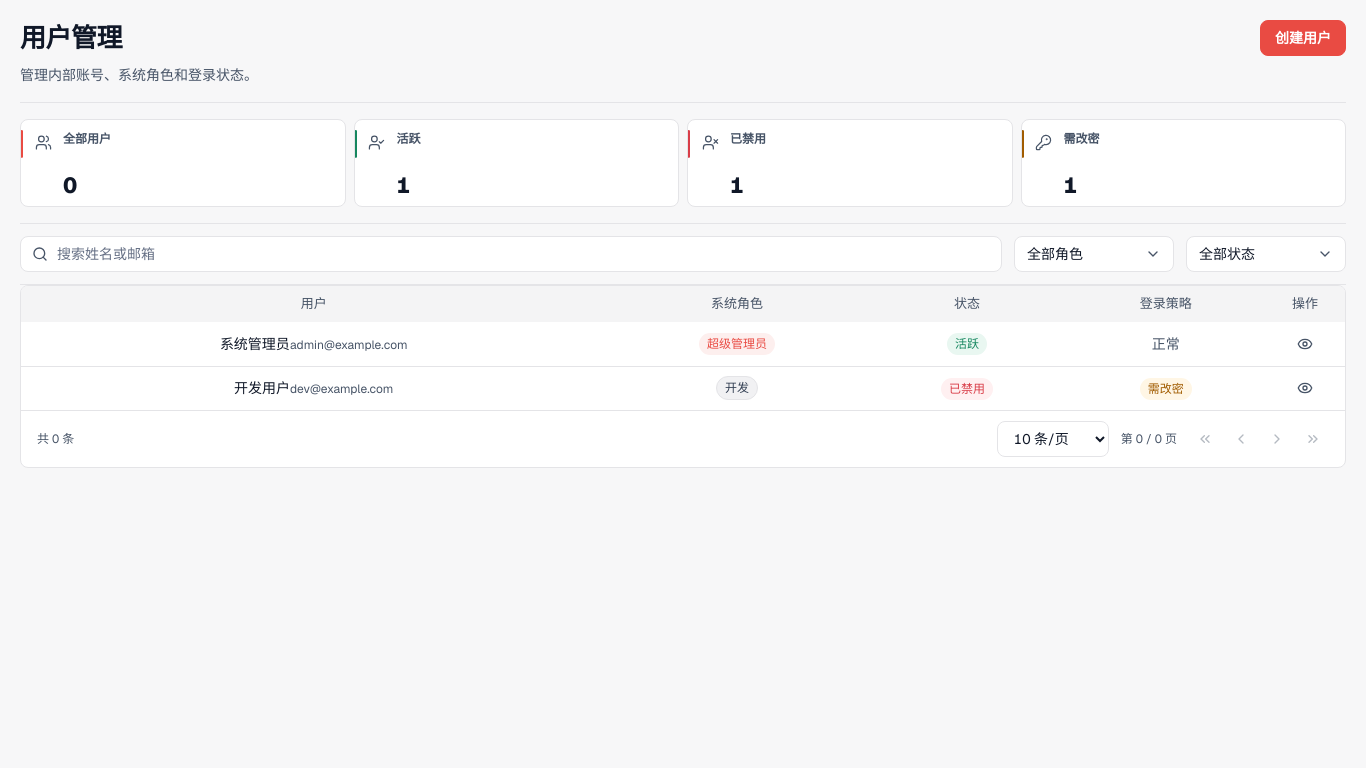
Test: UserManagement › renders dense rows and opens a protected detail drawer
Check: the text "dev@example.com" is shown, box [290,380,393,398]
Check: the text "已禁用" in the row of "全部用户" is shown, box [730,131,766,147]
Step 1. Click the button named "查看系统管理员" → click(1305, 344), box [1289,328,1321,360]
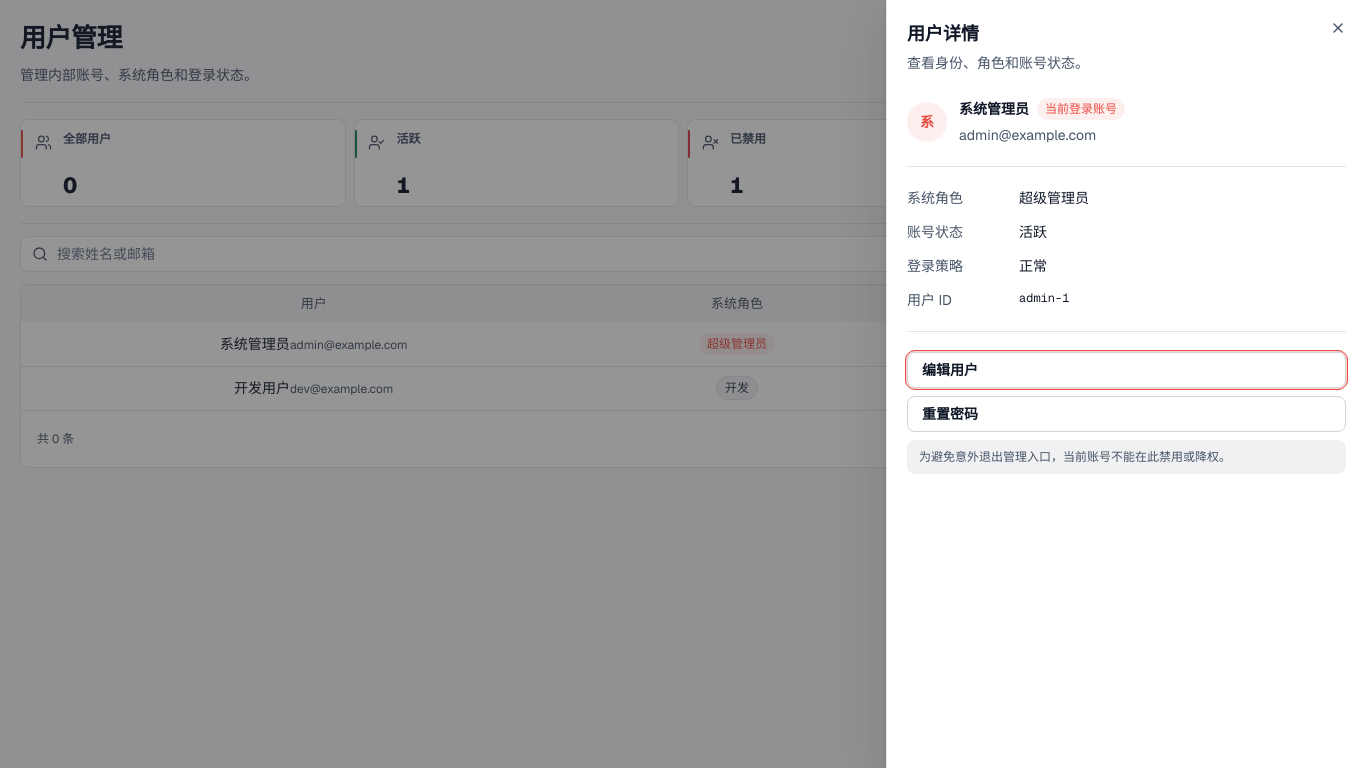
Check: the dialog is shown, box [886,0,1365,767]
Check: the text "当前登录账号" is shown, box [1037,98,1125,120]
